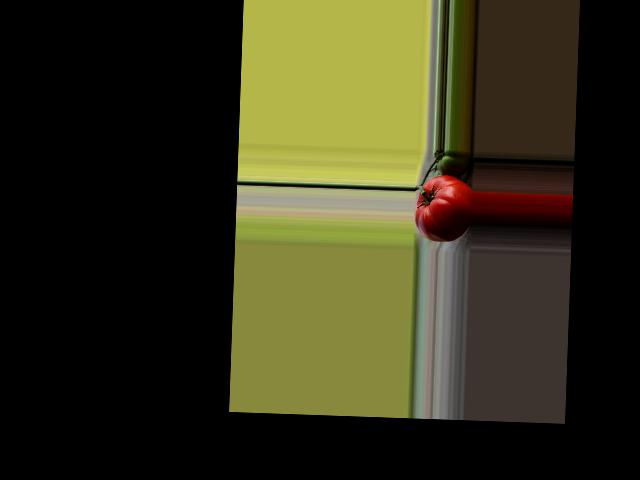tomato: (414, 174, 474, 243)
